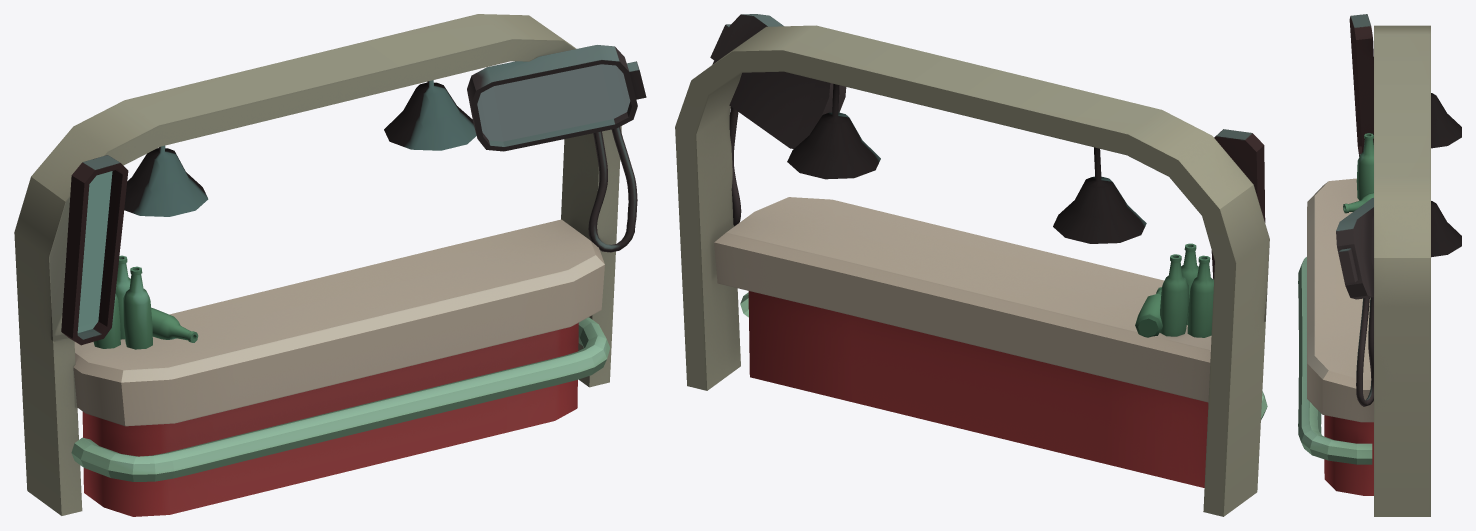
The model's file is Bar_mesh.fbx.
3 renders of one model, left to right at view 1: azimuth 30°, elevation 25°; view 2: azimuth 150°, elevation 25°; view 3: azimuth 270°, elevation 25°, orthographic. The views are drawn at different scales.
Parts seen in each view (by area): view 1: Bar_mesh; view 2: Bar_mesh; view 3: Bar_mesh.
Part boxes in pixels (<box>): Bar_mesh: <box>14,14,646,516</box>; Bar_mesh: <box>675,14,1269,516</box>; Bar_mesh: <box>1298,14,1461,516</box>.
Bounding box in the file's own units: 16.88 × 10.14 × 4.99.
